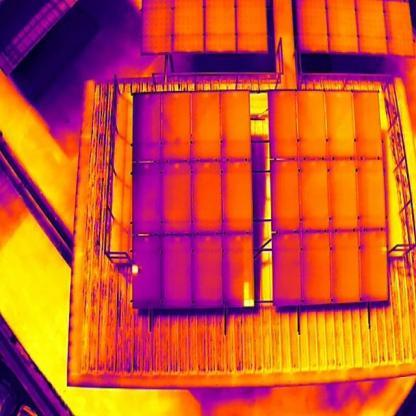anomaly: (240, 280, 255, 309), (128, 263, 141, 276)
